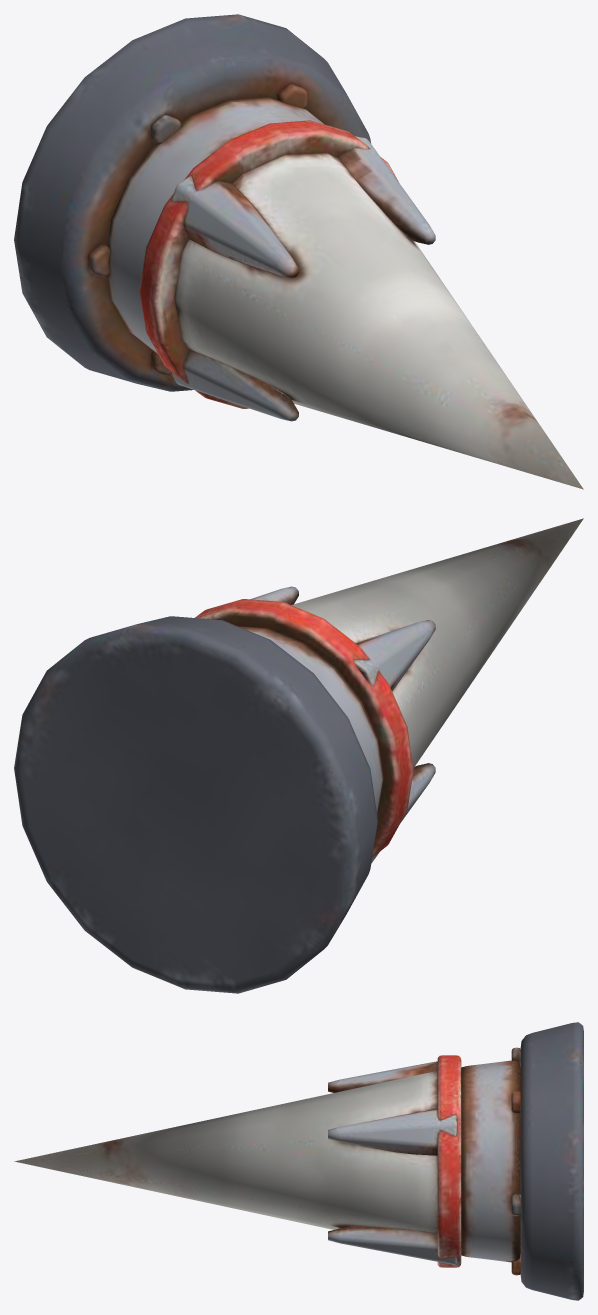
File: spike.glb
3 renders of one model, top to bottom at view 1: azimuth 30°, elevation 25°; view 2: azimuth 150°, elevation 25°; view 3: azimuth 270°, elevation 25°, orthographic. The views are drawn at different scales.
Parts seen in each view (by area): view 1: body; view 2: body; view 3: body.
Boxes of the visible parts, box(x1,y1,x2,y2) form: body: box(14, 14, 583, 489); body: box(14, 518, 583, 993); body: box(14, 1022, 583, 1300).
Size of the model in its own units: 0.3544 by 0.3544 by 0.72.
Materials: 1 (1 with a texture image).
